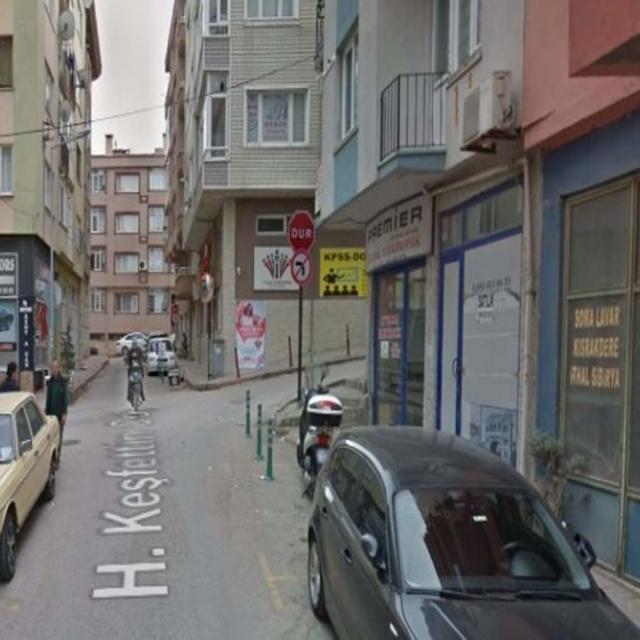dur: (288, 210, 316, 252)
soladonulmez: (290, 248, 314, 285)
